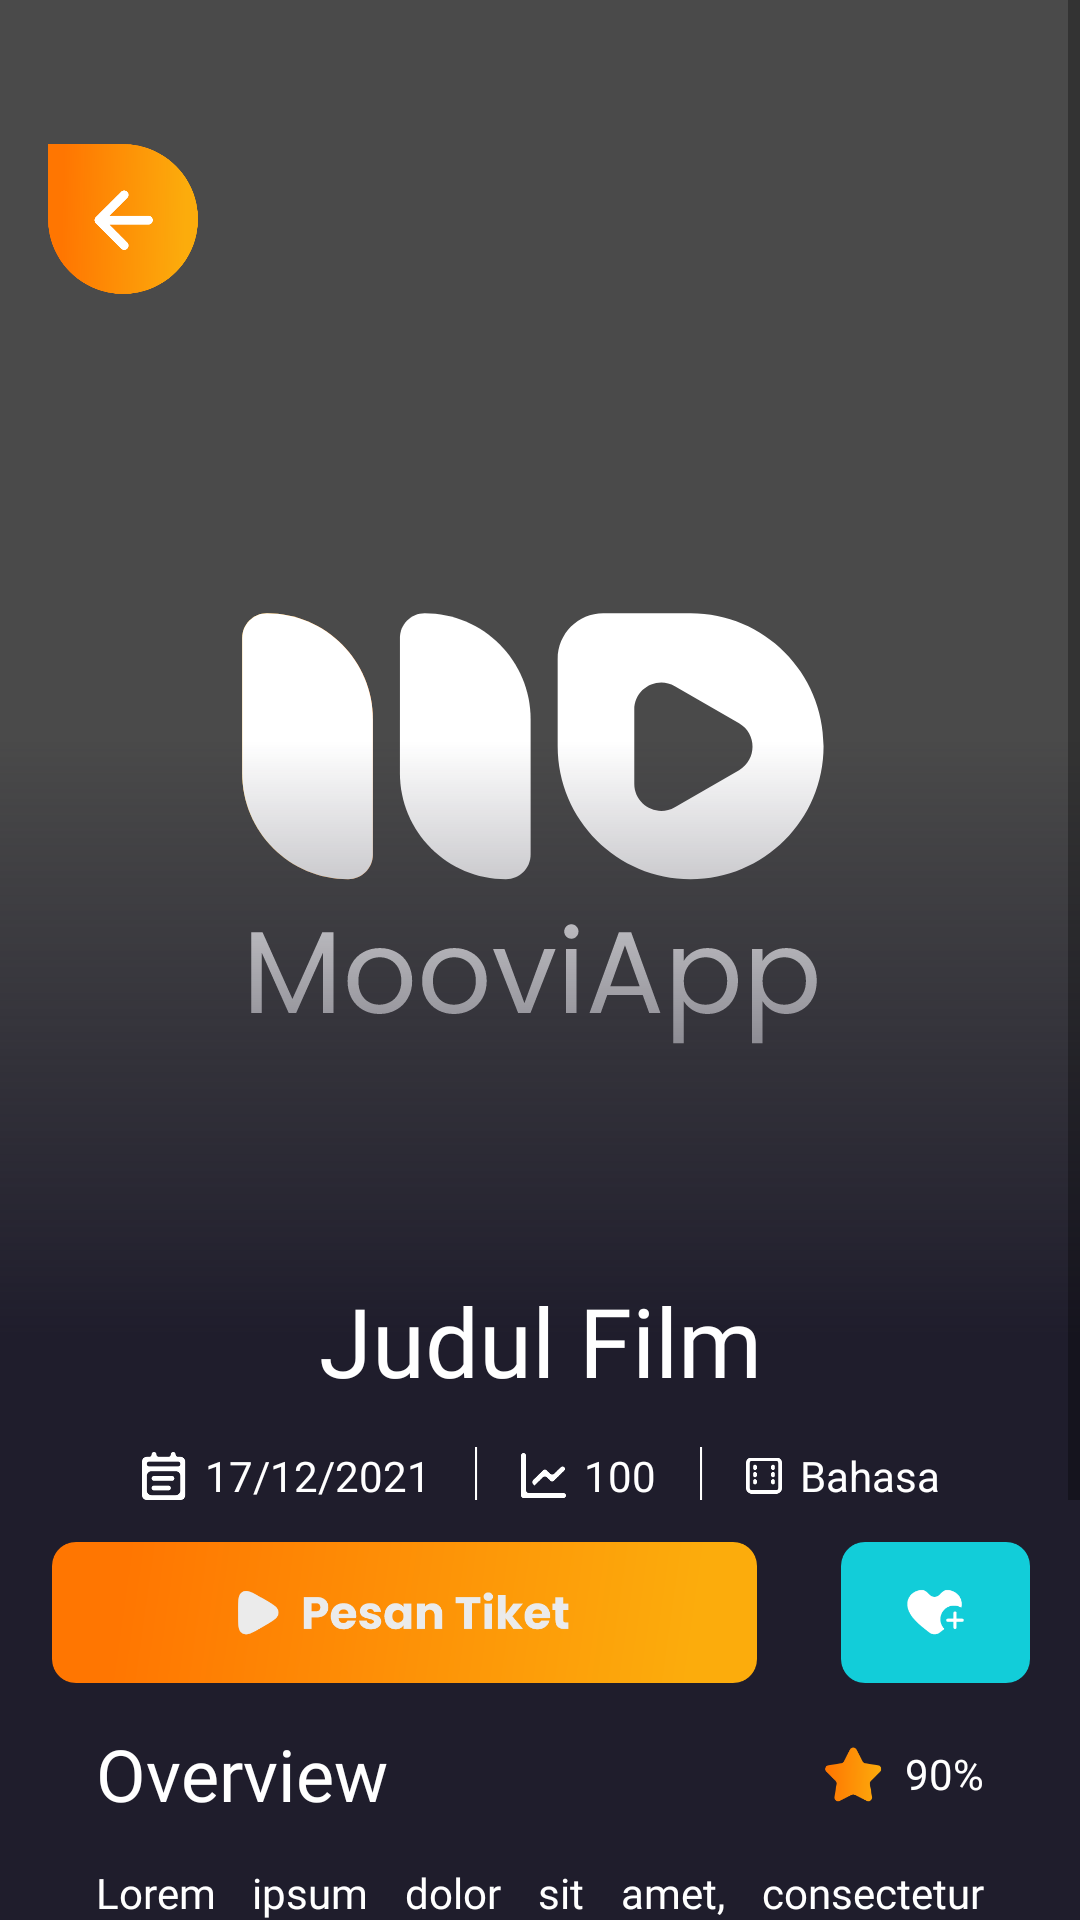

Locate icon controls on the screen. Image size 1080 × 1920, boxes as [x1=x1, y1=y1, x2=x2, y2=y2].
back: [x1=48, y1=144, x2=198, y2=294]
calender: [x1=142, y1=1452, x2=186, y2=1500]
popular: [x1=521, y1=1453, x2=566, y2=1498]
star: [x1=825, y1=1747, x2=881, y2=1802]
wishlist rev: [x1=841, y1=1542, x2=1030, y2=1683]
